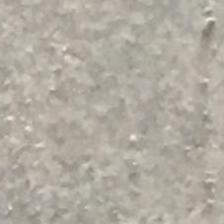Non_Crack: (1, 1, 224, 186)
